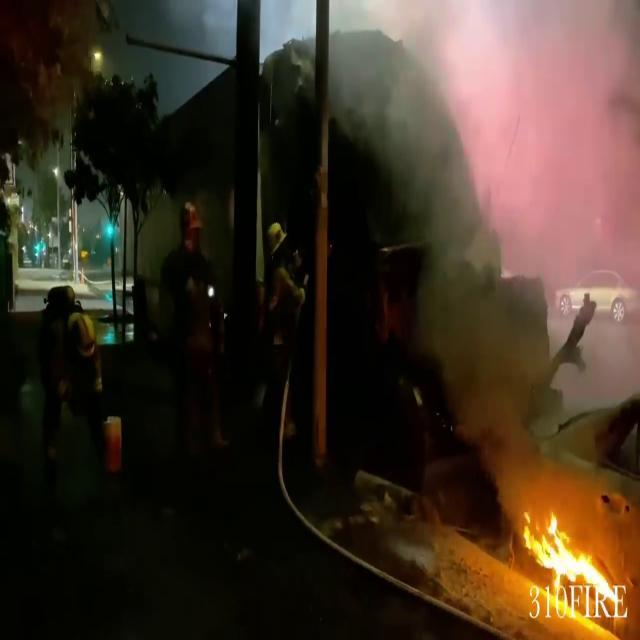Fire: (514, 503, 632, 632)
Smoke: (346, 0, 640, 298)
